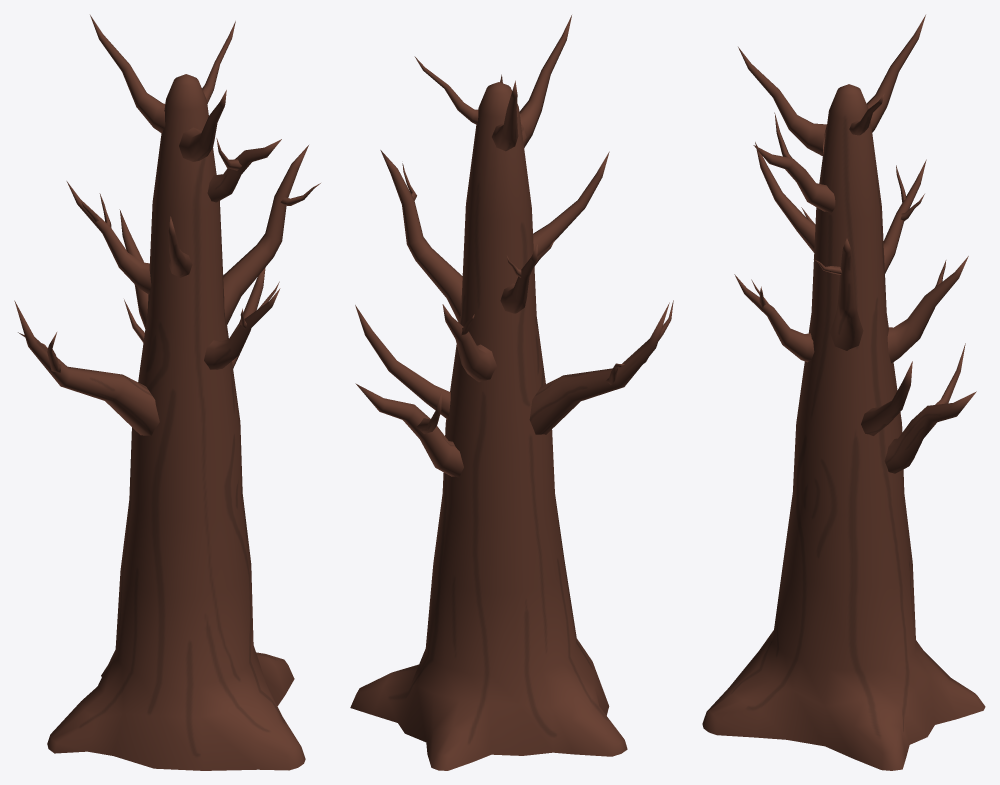
Rendered from ArvoreFina_Boitata.fbx.
The picture shows the model from 3 angles, left to right: view 1: azimuth 30°, elevation 25°; view 2: azimuth 150°, elevation 25°; view 3: azimuth 270°, elevation 25°; orthographic projection. The views are drawn at different scales.
Visible parts, largest first — view 1: Arvore_Fina; view 2: Arvore_Fina; view 3: Arvore_Fina.
Boxes of the visible parts, <box> form: Arvore_Fina: <box>14,15,320,770</box>; Arvore_Fina: <box>350,15,673,770</box>; Arvore_Fina: <box>702,15,985,770</box>.
Bounding box in the file's own units: 161 × 356 × 136.
